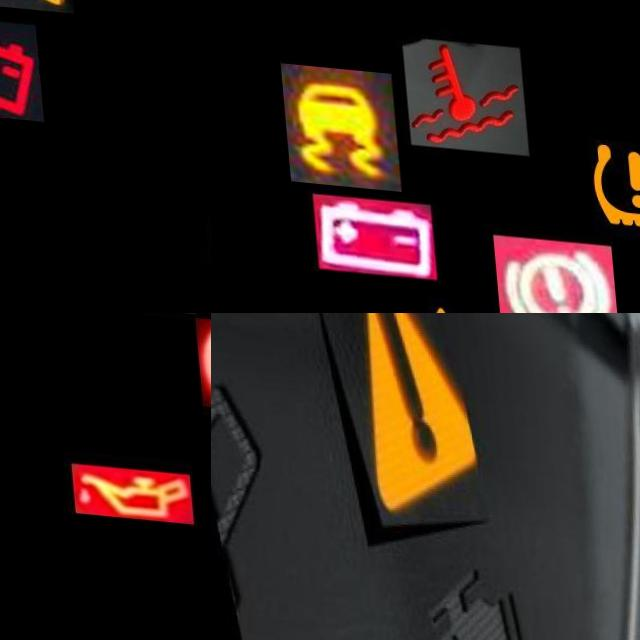Central Warning lamp: (374, 281, 500, 313)
Engine cooling system: (401, 32, 526, 149)
